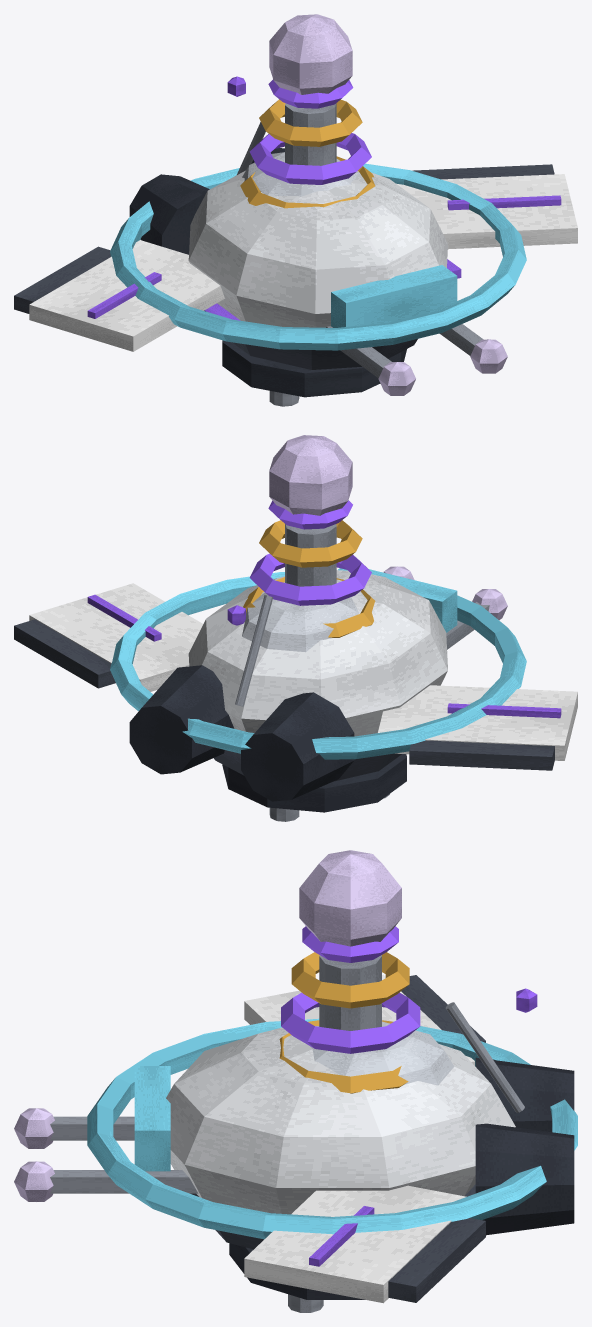
Rendered from drone_tesla.glb.
The picture shows the model from 3 angles, top to bottom: view 1: azimuth 30°, elevation 25°; view 2: azimuth 150°, elevation 25°; view 3: azimuth 270°, elevation 25°; orthographic projection. The views are drawn at different scales.
Visible parts, largest first — view 1: drone_tesla, halo; view 2: drone_tesla, halo; view 3: drone_tesla, halo.
Part boxes in pixels (x1,y1,x2,y2): drone_tesla: (14, 14, 577, 406); halo: (110, 163, 526, 350); drone_tesla: (14, 435, 577, 821); halo: (110, 572, 526, 759); drone_tesla: (14, 850, 574, 1312); halo: (87, 1018, 577, 1239).
Bounding box in the file's own units: 1.64 × 1.04 × 1.26.
2 materials, 2 textured.
